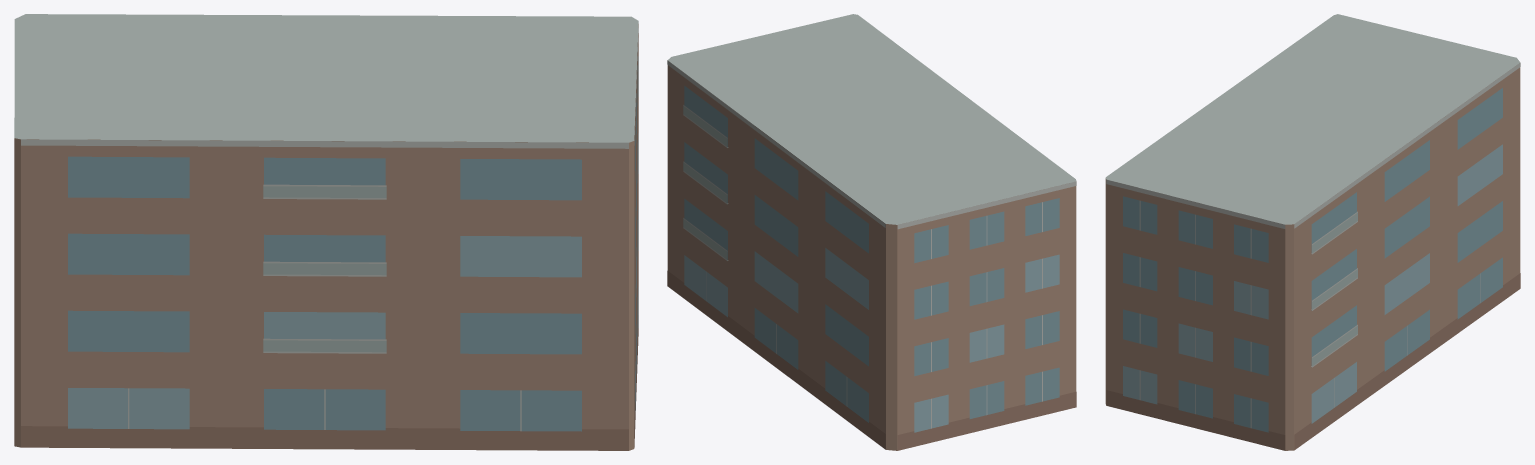
The model's file is survey-upis-32550403.glb.
3 views of the same model, side by side, from view 1: azimuth 30°, elevation 25°; view 2: azimuth 150°, elevation 25°; view 3: azimuth 270°, elevation 25° (orthographic). The views are drawn at different scales.
Visible parts, largest first — view 1: survey-upis-32550403.tmp; view 2: survey-upis-32550403.tmp; view 3: survey-upis-32550403.tmp.
Part boxes in pixels (bbox=[...]): survey-upis-32550403.tmp: bbox=[14, 14, 638, 450]; survey-upis-32550403.tmp: bbox=[667, 14, 1076, 450]; survey-upis-32550403.tmp: bbox=[1105, 14, 1520, 450].
Size of the model in its own units: 24.38 by 12.2 by 20.29.
